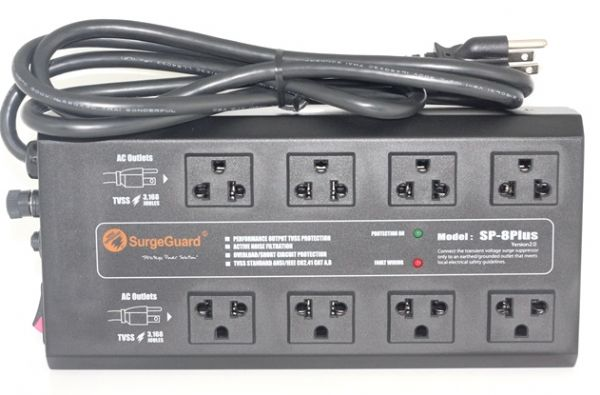Three_eye_plug: (20, 95, 587, 379)
